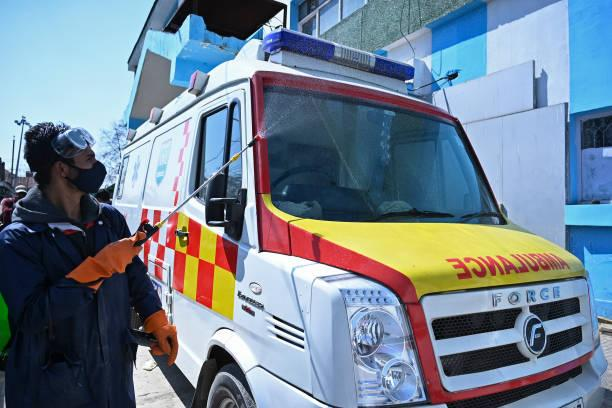ER: (116, 29, 608, 408)
